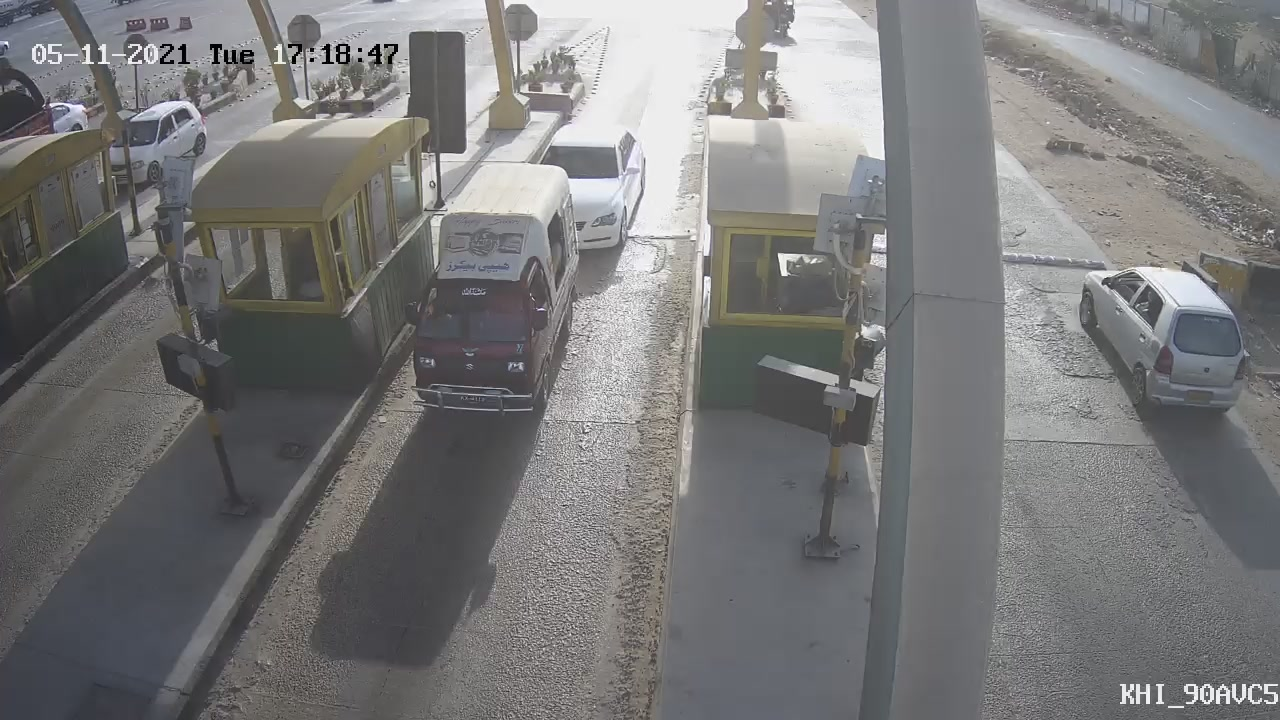F1: (377, 153, 596, 435)
